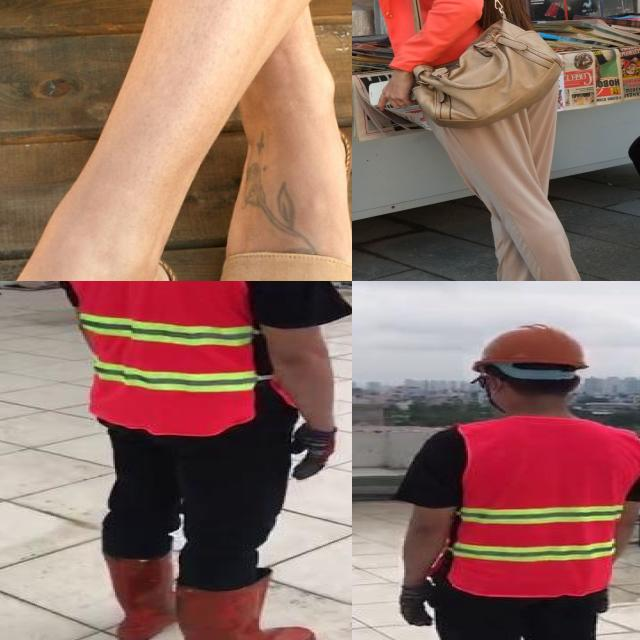Sandals: (212, 135, 352, 281)
boots: (173, 574, 314, 640), (100, 552, 173, 640)
hand_glove: (290, 425, 336, 481), (397, 581, 438, 625)
head_helmet: (470, 324, 589, 371)
person: (46, 281, 352, 640), (380, 319, 640, 640)
vest: (58, 281, 273, 436), (455, 417, 640, 596)
